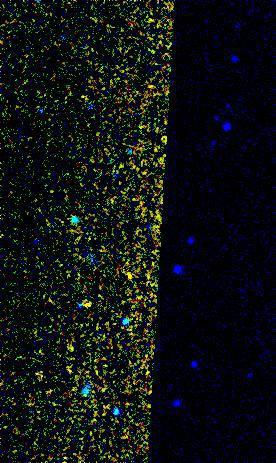star: (70, 288, 100, 318)
